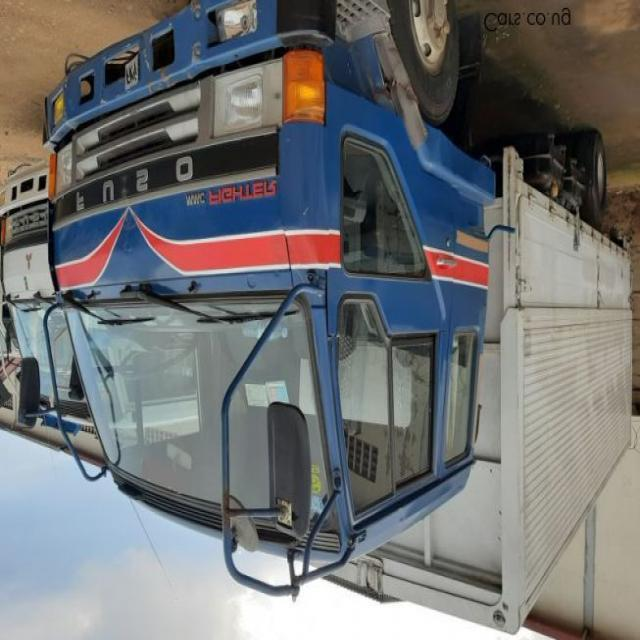truck: (19, 1, 630, 636)
